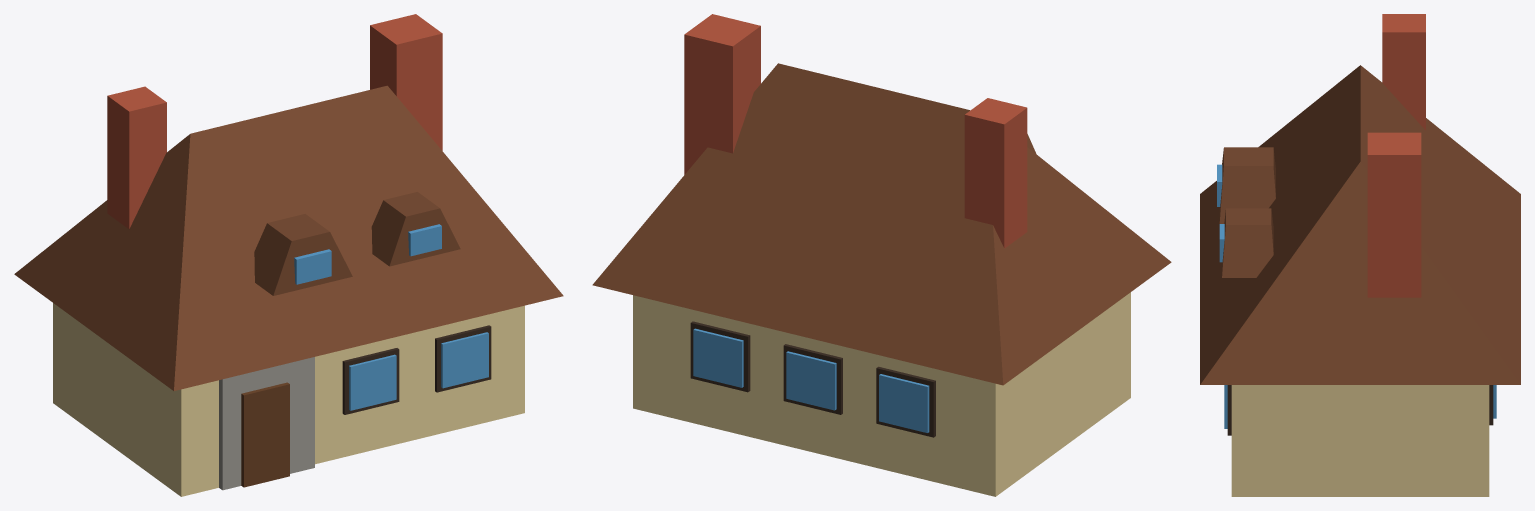
Rendered from 56_polish_karczma_4.obj.
3 views of the same model, side by side, from view 1: azimuth 30°, elevation 25°; view 2: azimuth 150°, elevation 25°; view 3: azimuth 270°, elevation 25° (orthographic). The views are drawn at different scales.
Visible parts, largest first — view 1: 56_polish_karczma_4; view 2: 56_polish_karczma_4; view 3: 56_polish_karczma_4.
Boxes of the visible parts, bbox=[...] form: 56_polish_karczma_4: bbox=[14, 14, 563, 496]; 56_polish_karczma_4: bbox=[592, 14, 1171, 496]; 56_polish_karczma_4: bbox=[1200, 14, 1520, 496].
Bounding box in the file's own units: 1.86 × 1.52 × 1.32.
